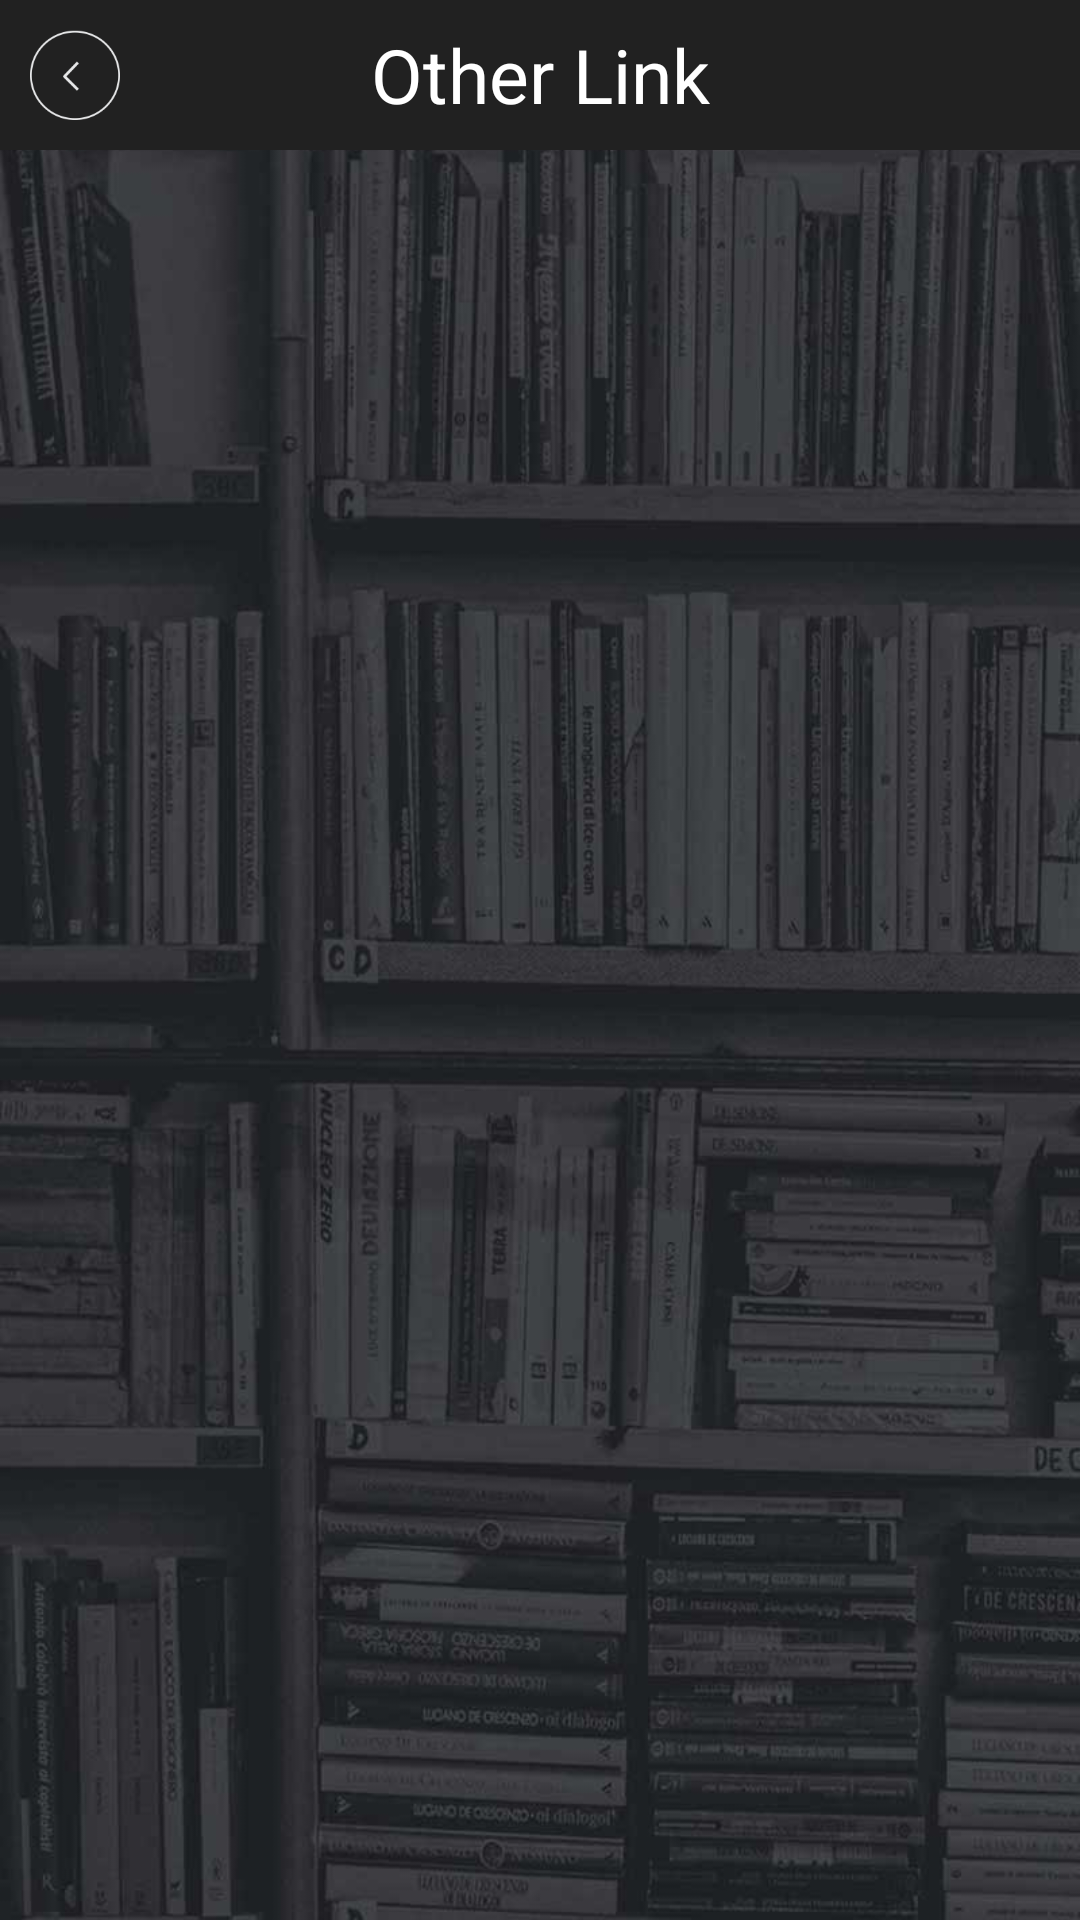

Named icons in this screenshot (1080px x 1920px) and their bounding boxes, (x1, y1, x2, y2):
back: (30, 30, 120, 120)
